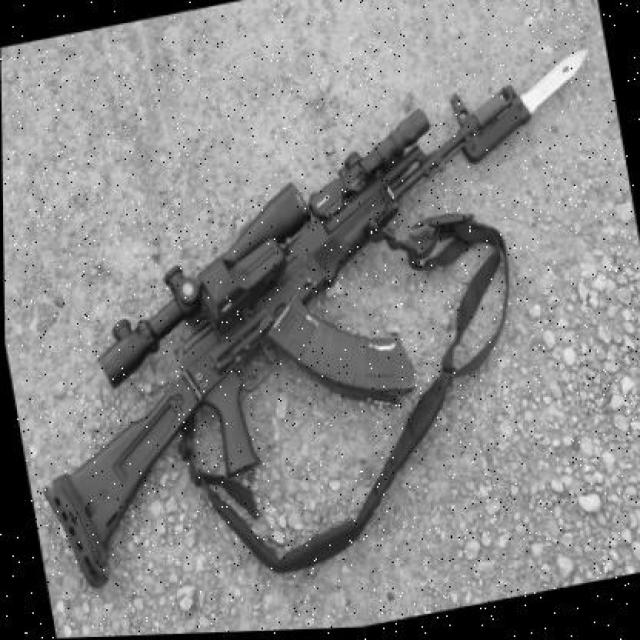weapon: (41, 82, 518, 594)
